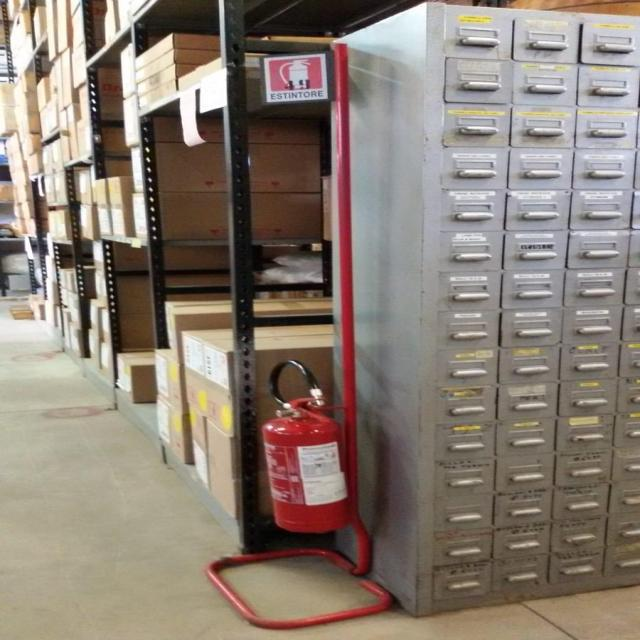fire_extinguisher: (257, 356, 368, 534)
